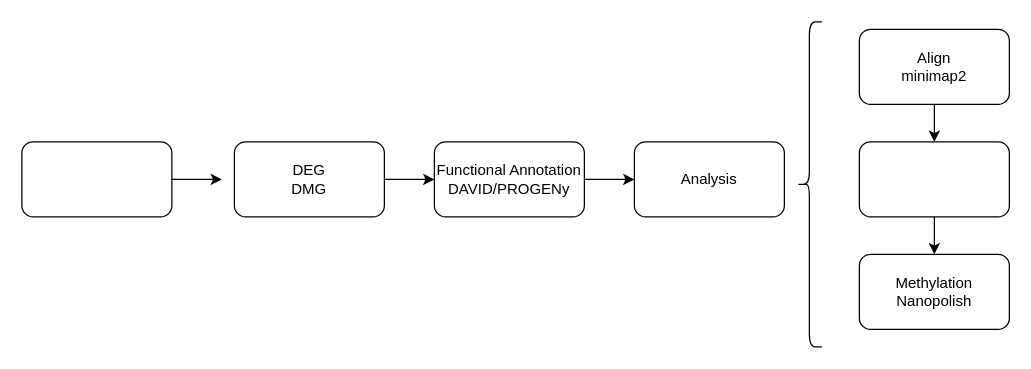
Some shapes in this 1031 by 369 pixel diagram are drawn without their labels. Each missing label, with the centre of its shape:
CNV/SV Sniffles2: [933,179]
Input .fast5/.fastq: [96,179]
